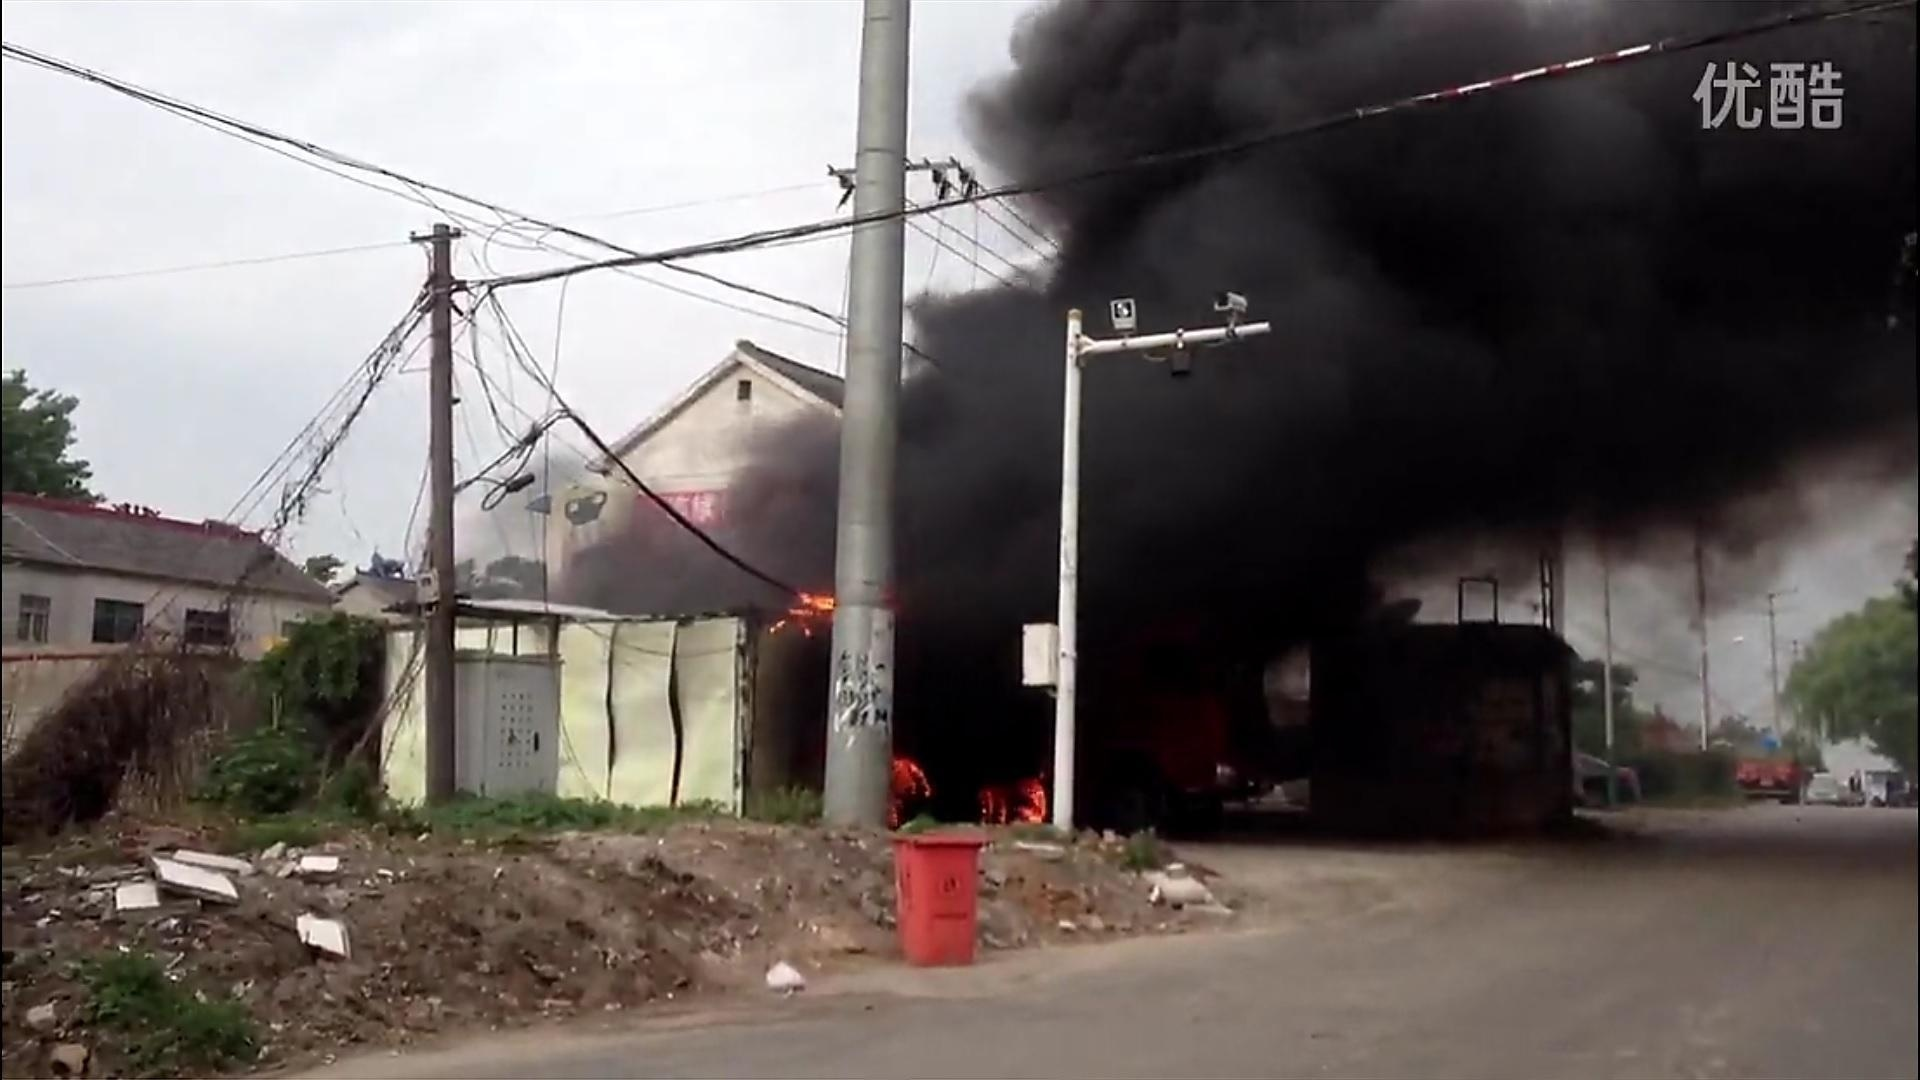fire: (762, 587, 833, 640)
